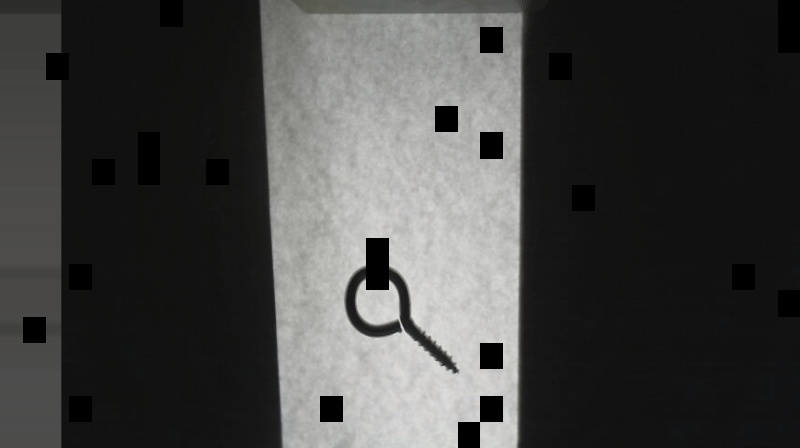O001: (340, 261, 463, 377)
